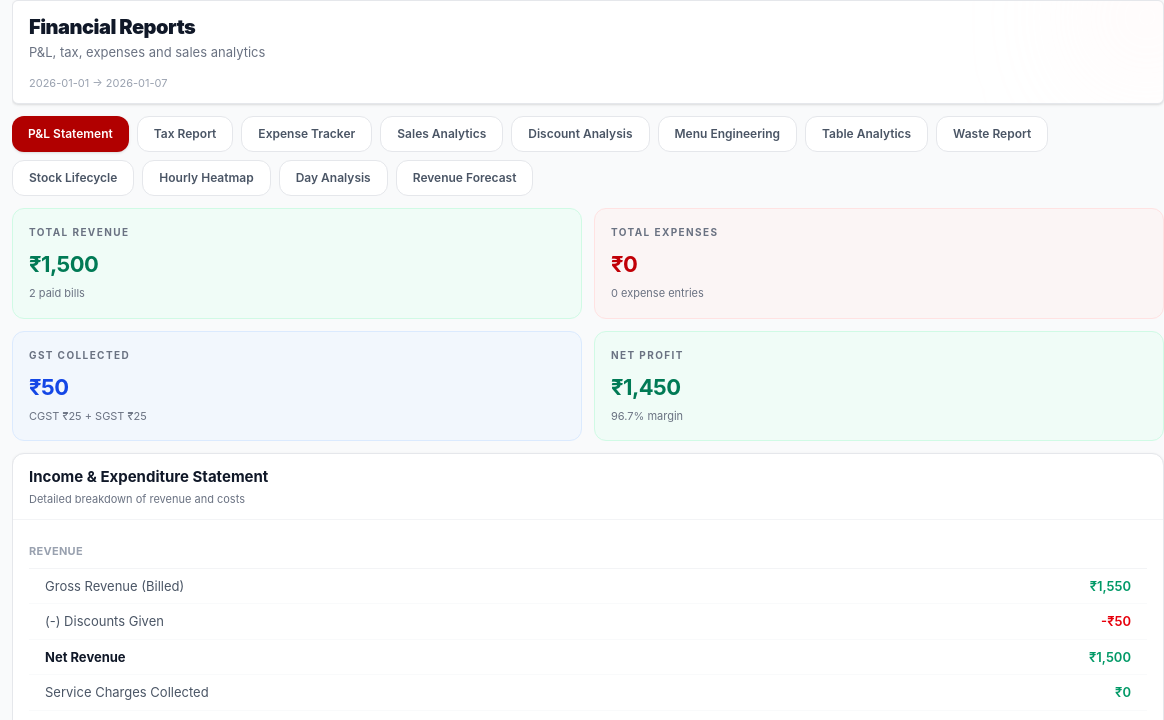
Test: Reports page — characterisation › renders the Tax Report tab's own content
Click the button "Tax Report" at (185, 134), box [137,116,233,152]
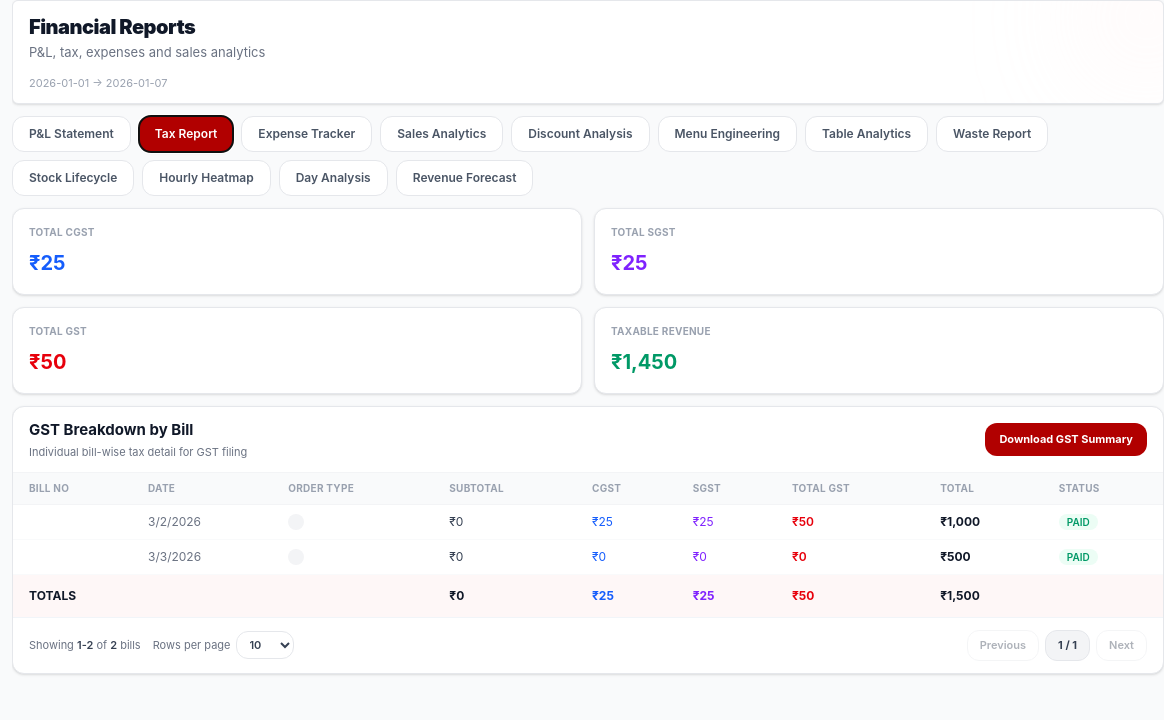
Expected: the text "Taxable Revenue" is shown, [611,325,711,337]
